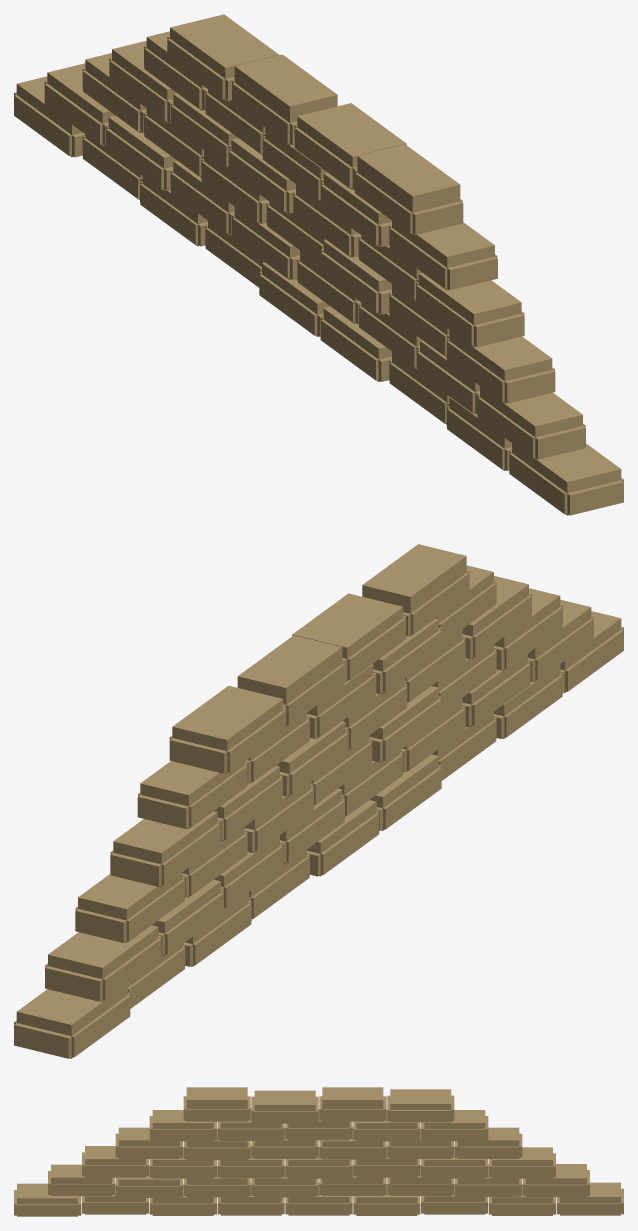
The model's file is sandBagWall.fbx.
The picture shows the model from 3 angles, top to bottom: view 1: azimuth 30°, elevation 25°; view 2: azimuth 150°, elevation 25°; view 3: azimuth 270°, elevation 25°; orthographic projection. The views are drawn at different scales.
Parts seen in each view (by area): view 1: sandBagWall_End, sandBagWall_Start, sandBagWall_Middle; view 2: sandBagWall_Start, sandBagWall_Middle, sandBagWall_End; view 3: sandBagWall_Start, sandBagWall_End, sandBagWall_Middle.
Part boxes in pixels (<box>): sandBagWall_End: <box>354,144,623,515</box>; sandBagWall_Start: <box>14,14,278,287</box>; sandBagWall_Middle: <box>228,54,406,381</box>; sandBagWall_Start: <box>14,685,313,1058</box>; sandBagWall_Middle: <box>237,593,441,876</box>; sandBagWall_End: <box>362,544,623,780</box>; sandBagWall_Start: <box>353,1089,623,1215</box>; sandBagWall_End: <box>14,1087,250,1216</box>; sandBagWall_Middle: <box>217,1087,386,1215</box>.
Bounding box in the file's own units: 53.41 × 166 × 799.
